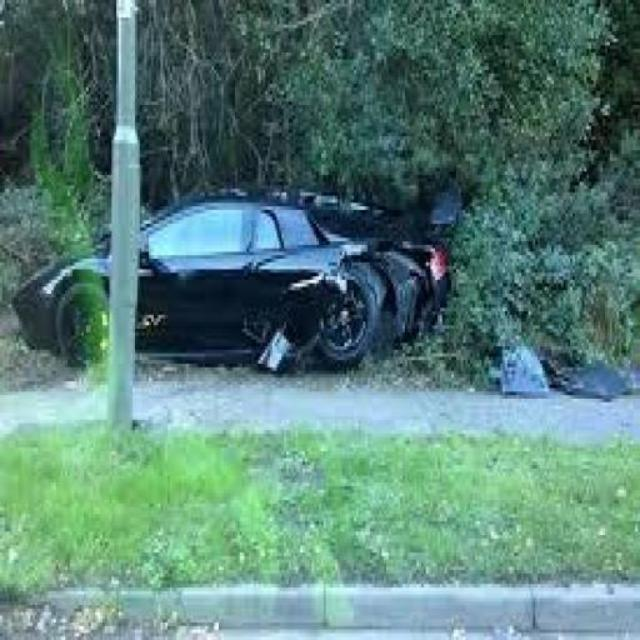crash: (310, 178, 470, 359)
